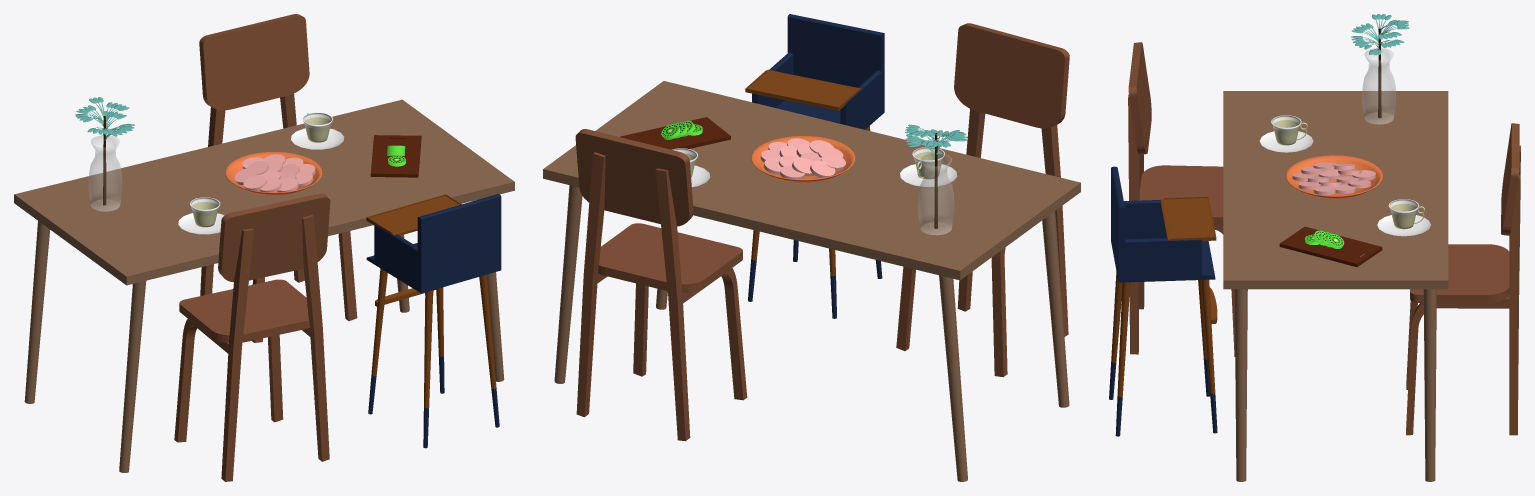
Rendered from diningTable.glb.
The picture shows the model from 3 angles, left to right: view 1: azimuth 30°, elevation 25°; view 2: azimuth 150°, elevation 25°; view 3: azimuth 270°, elevation 25°; orthographic projection. The views are drawn at different scales.
Parts seen in each view (by area): view 1: Cube.019, Cube.030, Cube.025, Cube.048, Cylinder, Cube.049, Cube.050, Cube.022, Cylinder.001, Cylinder.051, Cube.031, Cube.027 (+6 smaller); view 2: Cube.019, Cube.048, Cube.030, Cylinder, Cube.025, Cube.026, Cube.024, Cube.027, Cube.050, Cube.028, Cylinder.051, Cube.022 (+4 smaller); view 3: Cube.019, Cube.030, Cylinder, Cube.027, Cube.026, Cube.049, Cylinder.001, Cube.028, Cylinder.051, Cube.048, Cube.022, Cube.031 (+7 smaller).
Part boxes in pixels (x1,y1,x2,y2): Cube.019: [14, 99, 514, 285]; Cube.030: [366, 194, 501, 293]; Cube.025: [199, 14, 309, 110]; Cube.048: [218, 193, 330, 282]; Cylinder: [24, 221, 504, 472]; Cube.049: [179, 279, 309, 342]; Cube.050: [174, 228, 253, 481]; Cube.022: [268, 215, 329, 461]; Cylinder.001: [371, 268, 496, 408]; Cylinder.051: [89, 135, 121, 211]; Cube.031: [370, 135, 421, 177]; Cube.027: [280, 93, 357, 321]; Cube.019: [543, 81, 1080, 280]; Cube.048: [954, 23, 1069, 128]; Cube.030: [752, 14, 884, 129]; Cylinder: [554, 185, 1069, 481]; Cube.025: [575, 129, 693, 226]; Cube.026: [598, 223, 742, 292]; Cube.024: [655, 168, 747, 441]; Cube.027: [576, 152, 648, 417]; Cube.050: [991, 125, 1068, 377]; Cube.028: [745, 69, 861, 110]; Cylinder.051: [918, 153, 953, 234]; Cube.022: [896, 47, 985, 350]; Cube.019: [1223, 91, 1448, 289]; Cube.030: [1111, 166, 1215, 282]; Cylinder: [1234, 289, 1436, 481]; Cube.027: [1406, 175, 1520, 435]; Cube.026: [1410, 244, 1509, 302]; Cube.049: [1139, 165, 1223, 225]; Cylinder.001: [1111, 271, 1215, 396]; Cube.028: [1160, 196, 1216, 240]; Cylinder.051: [1362, 48, 1395, 124]; Cube.048: [1128, 42, 1151, 154]; Cube.022: [1128, 94, 1235, 356]; Cube.031: [1279, 226, 1382, 267].
Bounding box in the file's own units: 0.0941 × 0.0693 × 0.0864.
